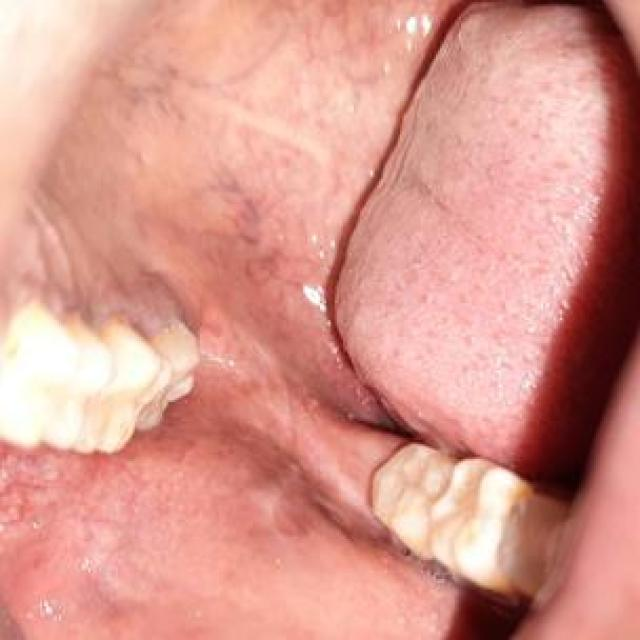processing_area: (0, 0, 603, 638)
